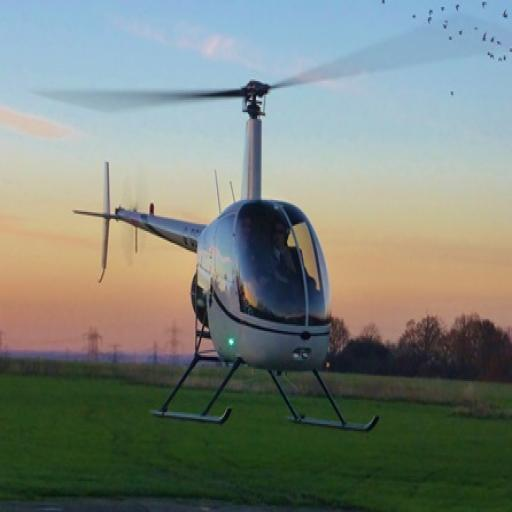helicopter: (70, 79, 379, 434)
